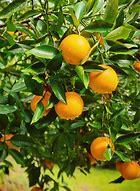orange: (54, 30, 90, 60), (54, 97, 92, 124), (83, 61, 118, 90), (32, 88, 56, 114), (91, 136, 118, 158)
